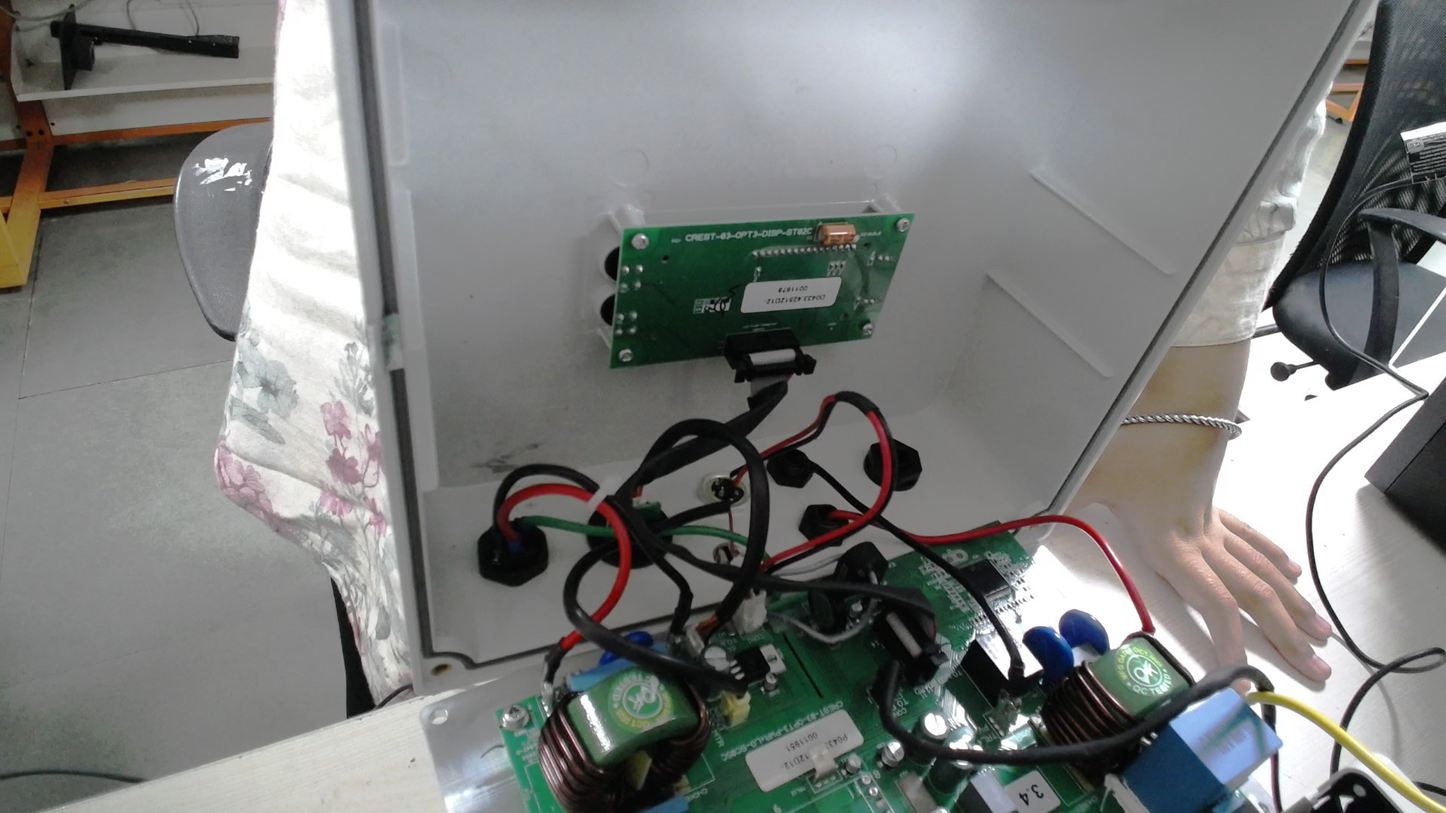wire_red: (448, 466, 556, 595)
